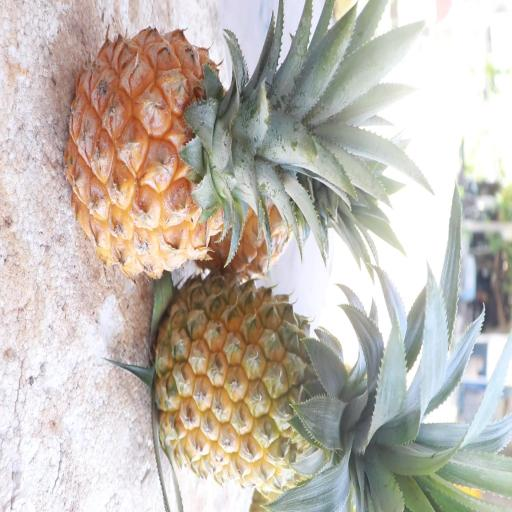Pineapple - v8 v1: (60, 18, 330, 286), (151, 264, 396, 496)
